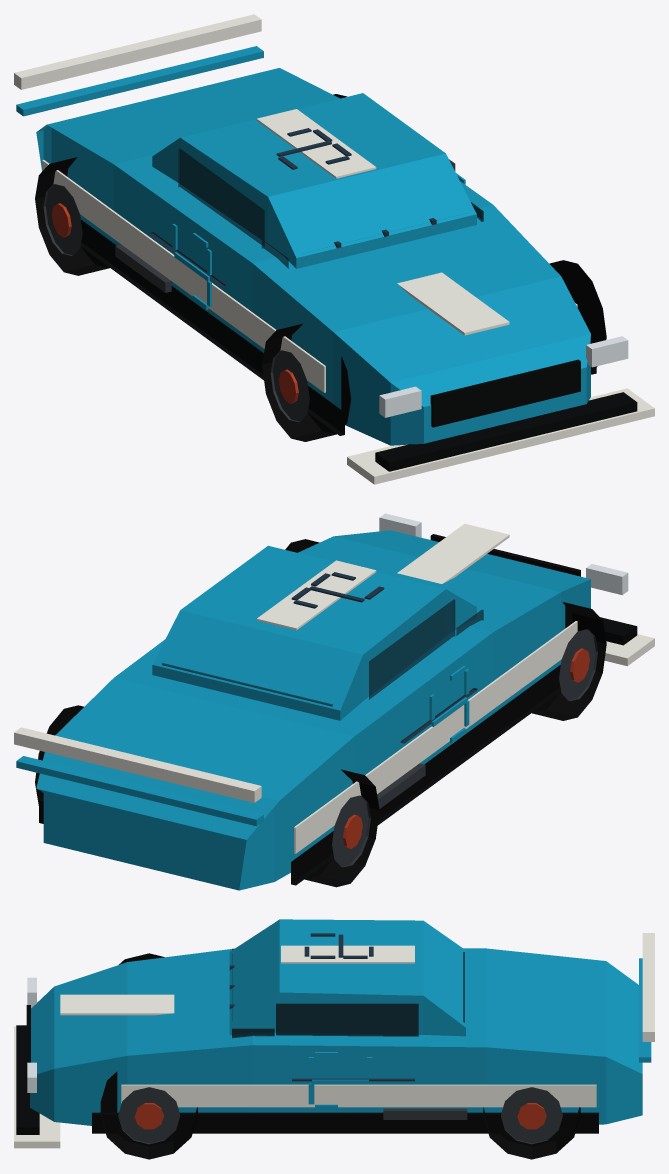
File: stock_car_09.obj
The picture shows the model from 3 angles, top to bottom: view 1: azimuth 30°, elevation 25°; view 2: azimuth 150°, elevation 25°; view 3: azimuth 270°, elevation 25°; orthographic projection. The views are drawn at different scales.
Parts seen in each view (by area): view 1: StockCar_09; view 2: StockCar_09; view 3: StockCar_09.
Part boxes in pixels (x1=…): StockCar_09: x1=14, y1=14, x2=654, y2=484; StockCar_09: x1=14, y1=513, x2=654, y2=890; StockCar_09: x1=14, y1=919, x2=654, y2=1159.
Size of the model in its own units: 2.35 by 1.34 by 5.26.
